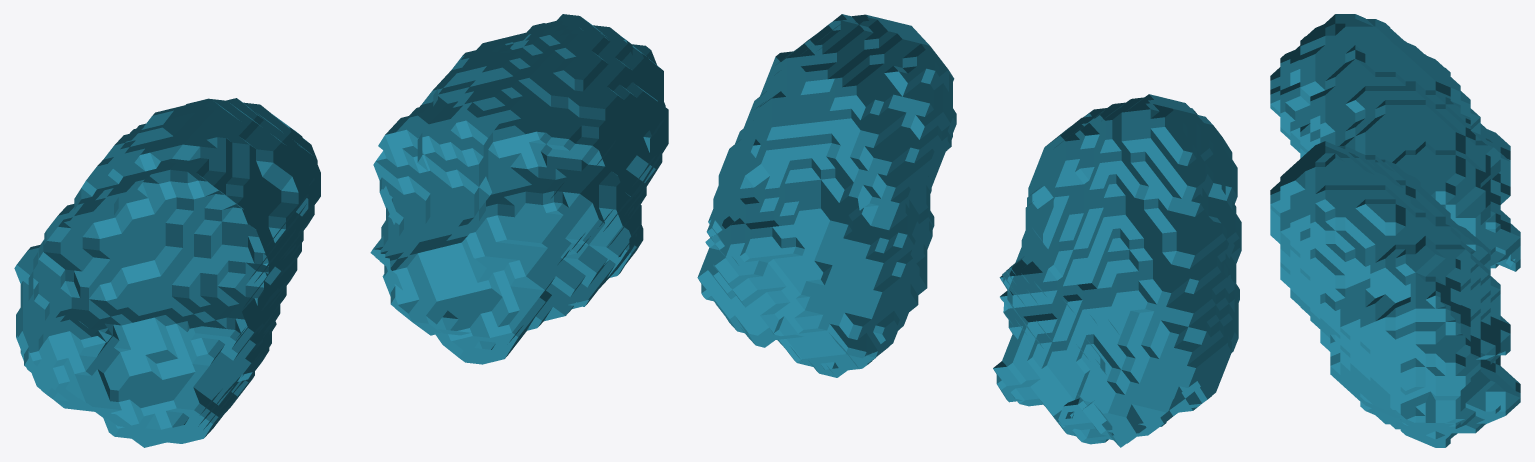
File: region_0069_ICL__internal_cellular_layer_of_olfactory_bulb_.glb
The picture shows the model from 3 angles, left to right: view 1: azimuth 30°, elevation 25°; view 2: azimuth 150°, elevation 25°; view 3: azimuth 270°, elevation 25°; orthographic projection. The views are drawn at different scales.
Parts seen in each view (by area): view 1: world; view 2: world; view 3: world.
Part boxes in pixels (bbox=[...]): world: bbox=[14, 14, 668, 447]; world: bbox=[697, 14, 1241, 447]; world: bbox=[1270, 14, 1520, 447].
Bounding box in the file's own units: 0.432 × 0.264 × 0.2.
